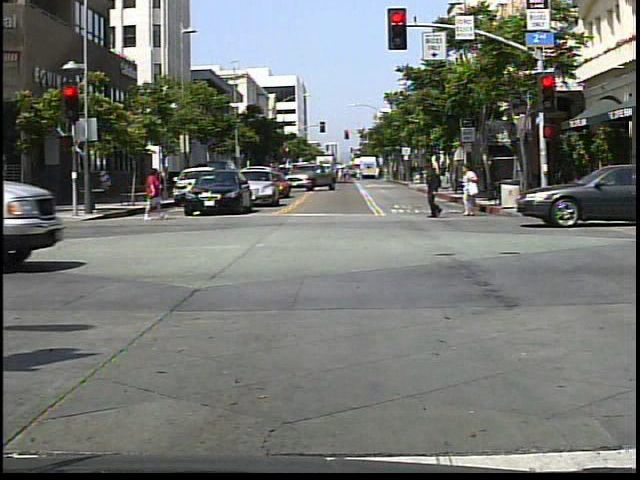person: (135, 165, 168, 225), (423, 157, 451, 221), (459, 160, 484, 221)
